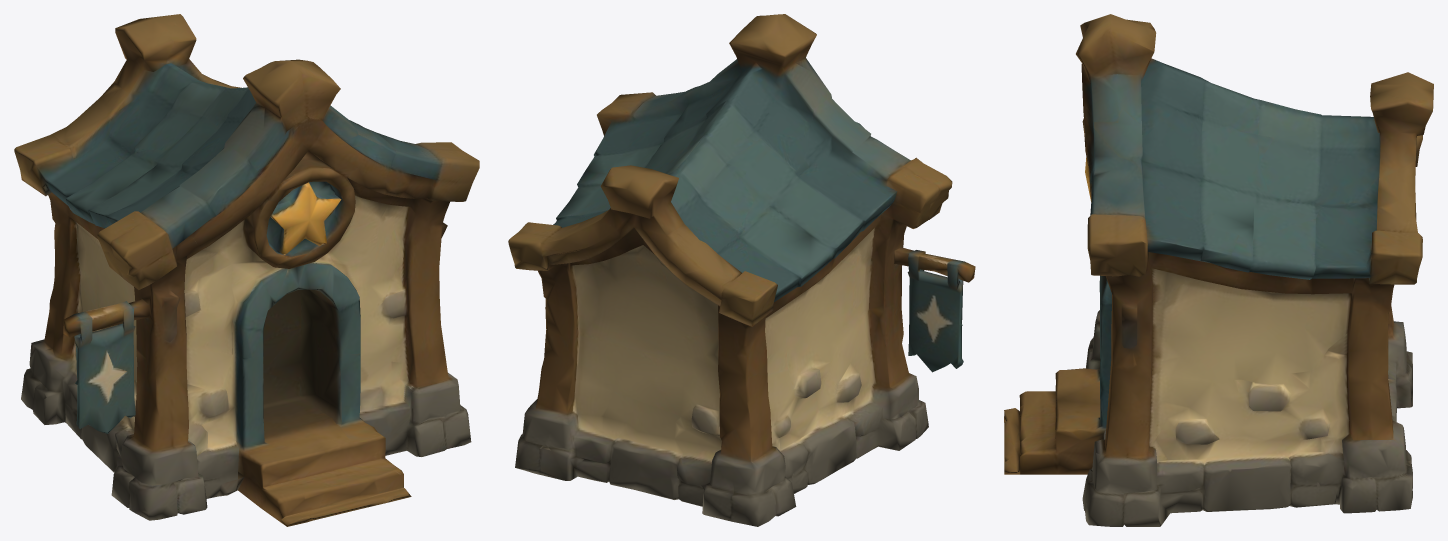
File: hut.glb
The picture shows the model from 3 angles, left to right: view 1: azimuth 30°, elevation 25°; view 2: azimuth 150°, elevation 25°; view 3: azimuth 270°, elevation 25°; orthographic projection. The views are drawn at different scales.
Visible parts, largest first — view 1: tripo_node_7abe93da-fb59-422b-9252-f4f919a9ec3a; view 2: tripo_node_7abe93da-fb59-422b-9252-f4f919a9ec3a; view 3: tripo_node_7abe93da-fb59-422b-9252-f4f919a9ec3a.
Boxes of the visible parts, box(x1,y1,x2,y2) form: tripo_node_7abe93da-fb59-422b-9252-f4f919a9ec3a: box(14, 14, 479, 526); tripo_node_7abe93da-fb59-422b-9252-f4f919a9ec3a: box(508, 14, 975, 526); tripo_node_7abe93da-fb59-422b-9252-f4f919a9ec3a: box(1004, 14, 1433, 526).
Size of the model in its own units: 1 by 0.9976 by 0.9111.
1 material, 1 textured.
